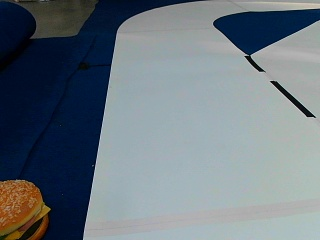burger: (0, 177, 49, 238)
